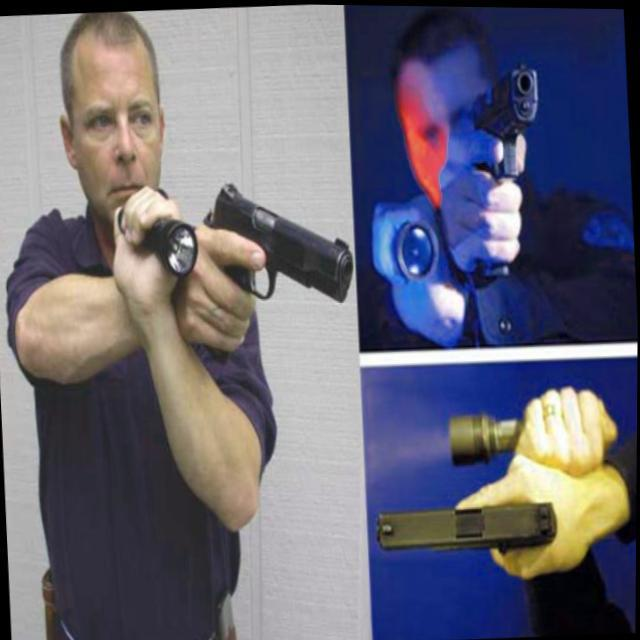weapon: (202, 168, 360, 347), (378, 496, 560, 554), (468, 61, 548, 185)
